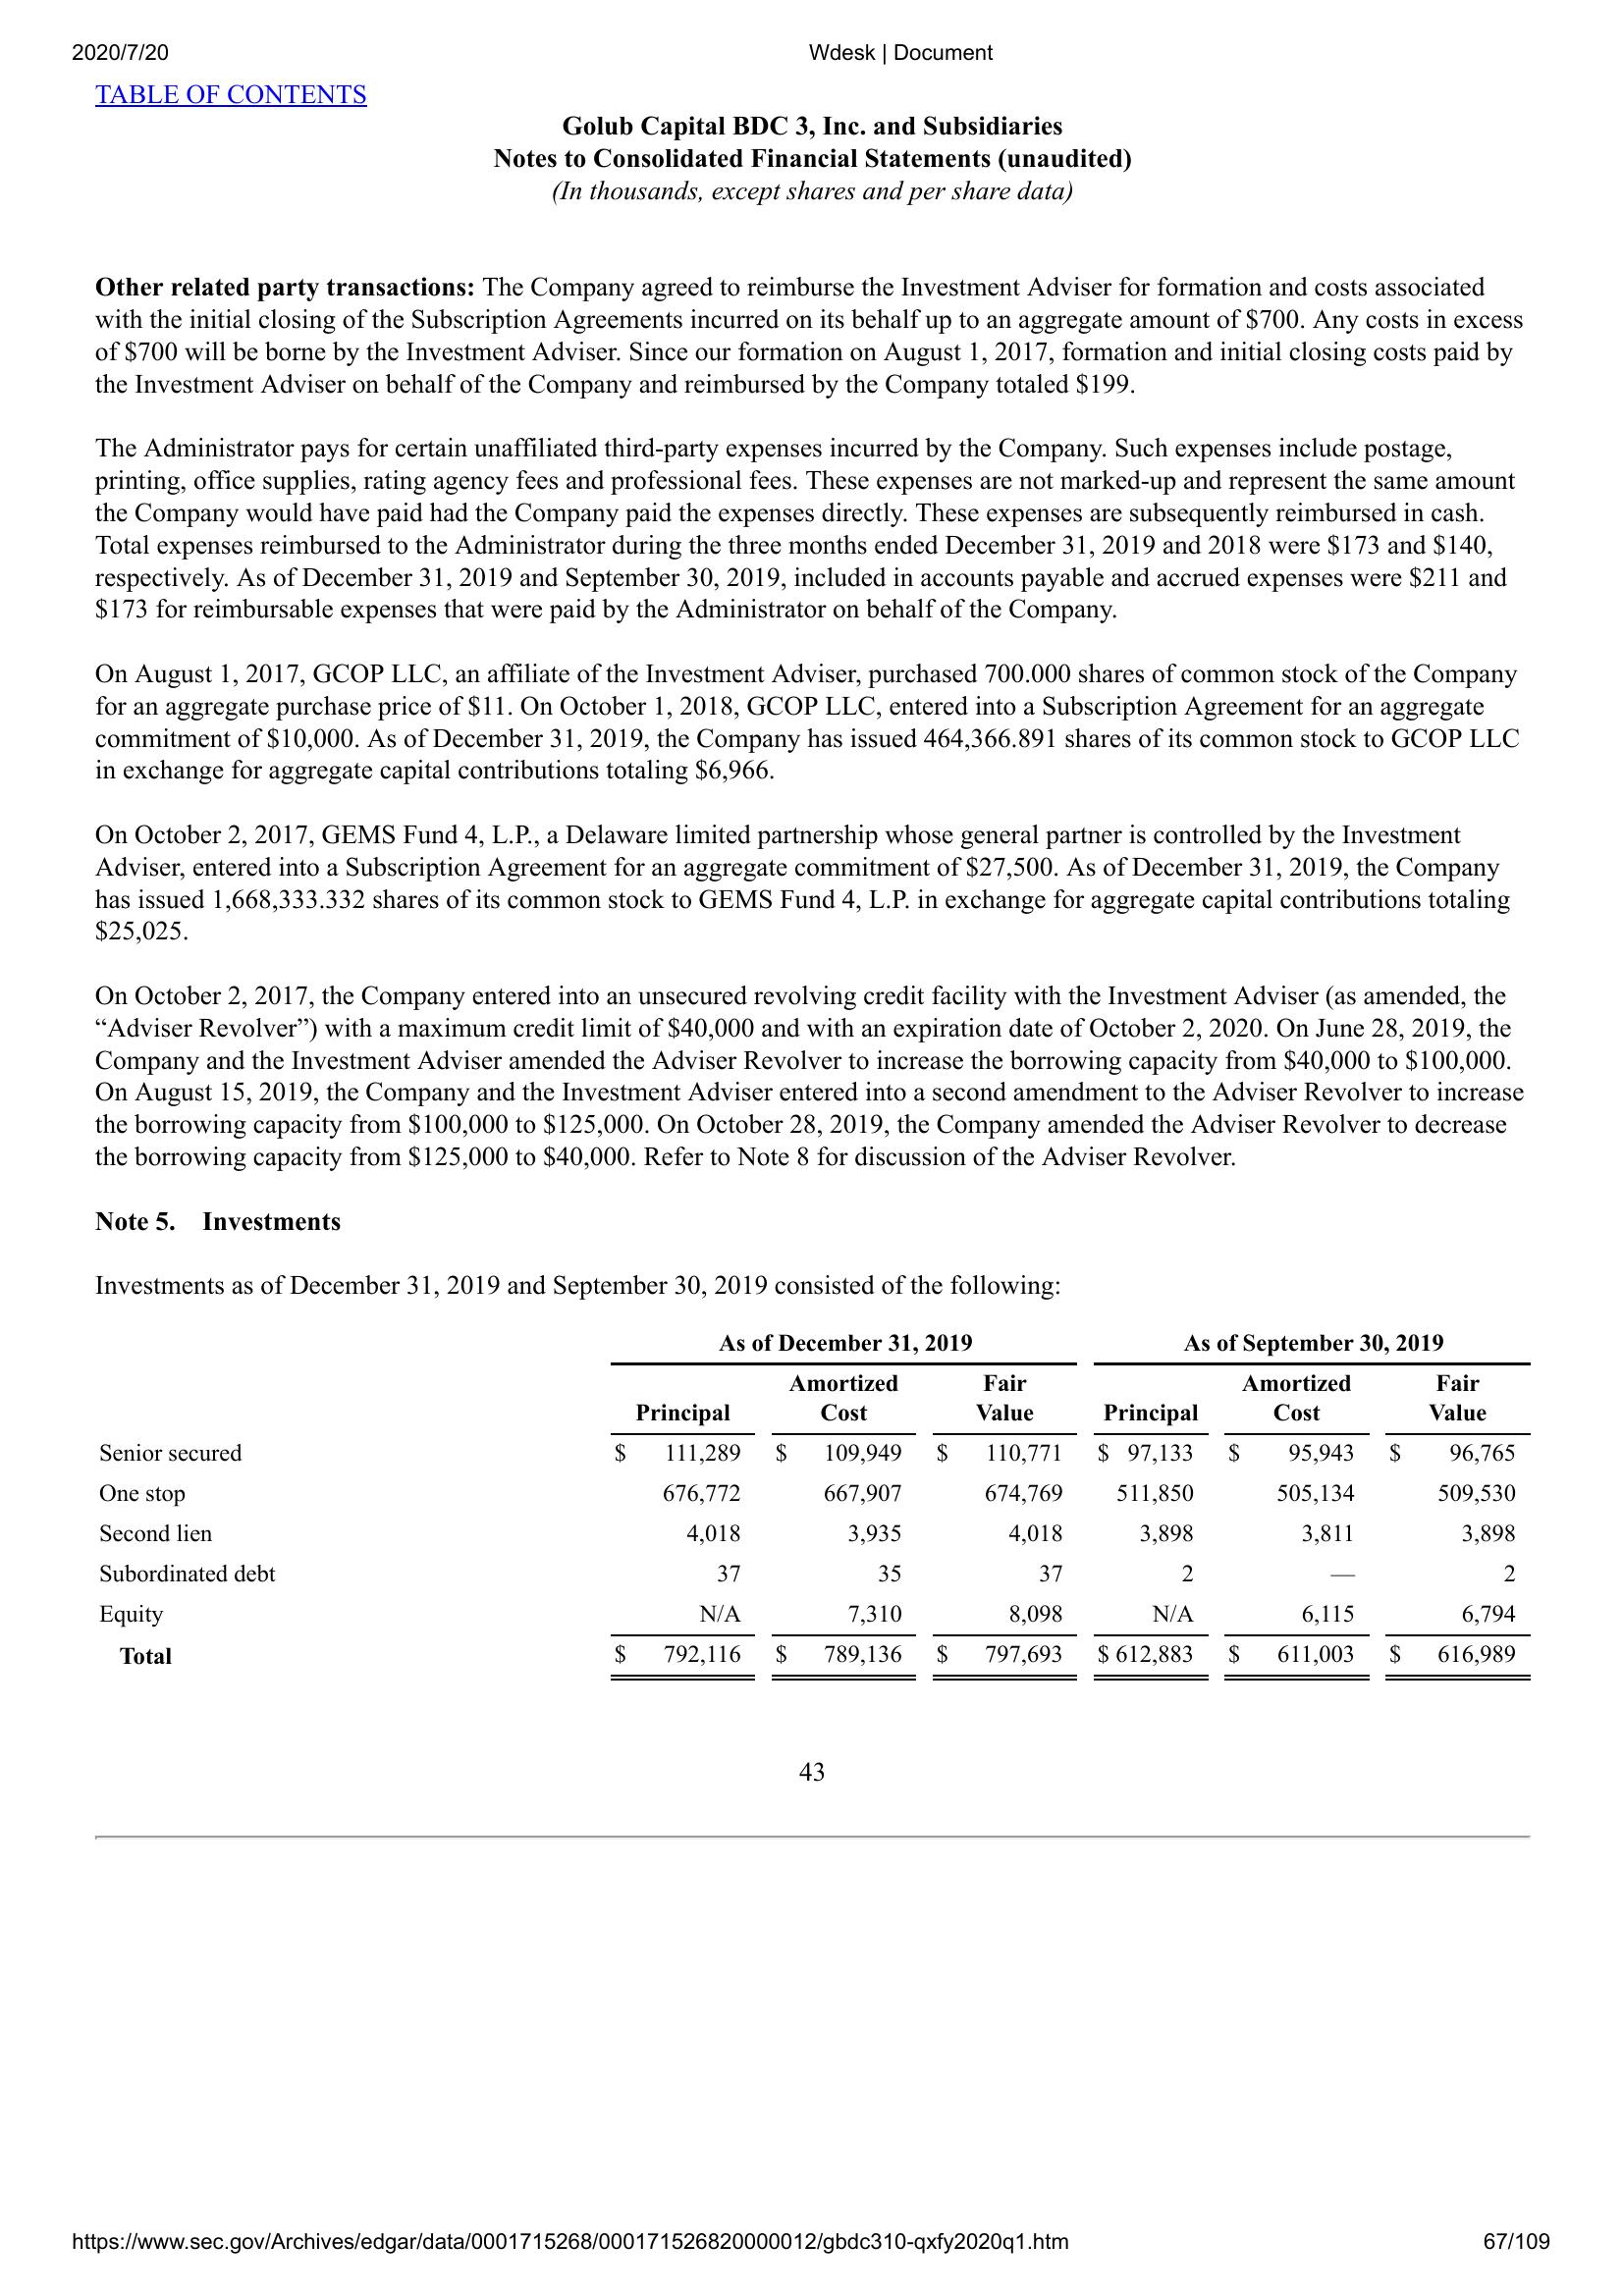table: (84, 1324, 1537, 1687)
